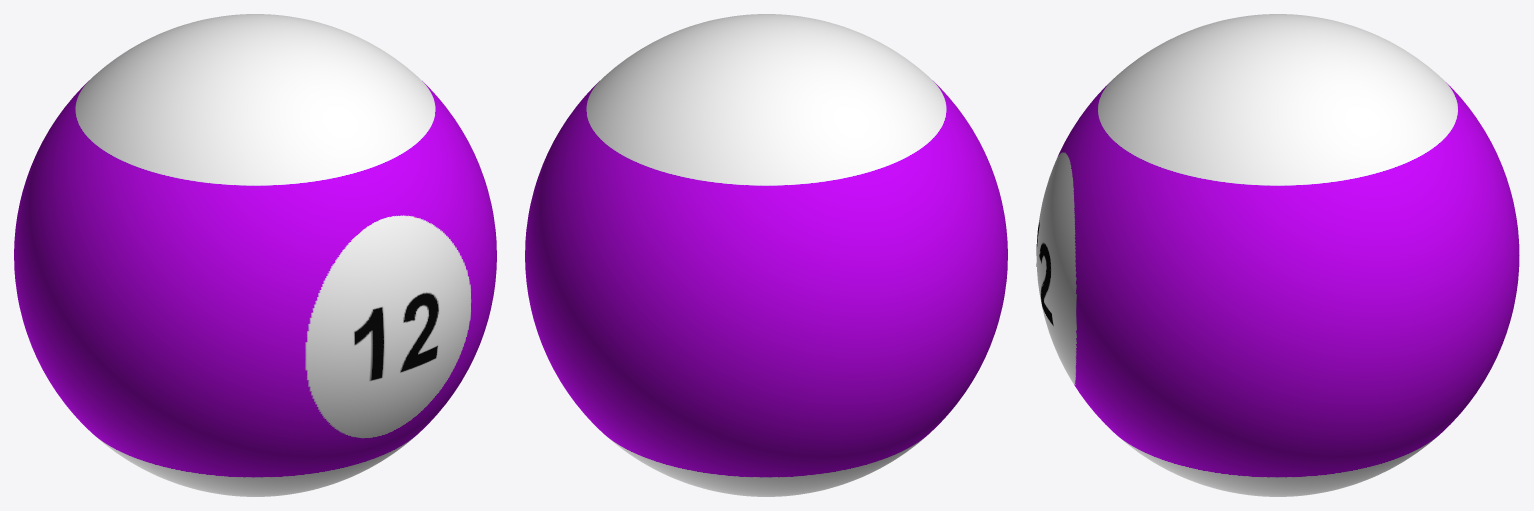
File: 12ball.obj
3 views of the same model, side by side, from view 1: azimuth 30°, elevation 25°; view 2: azimuth 150°, elevation 25°; view 3: azimuth 270°, elevation 25° (orthographic).
Visible parts, largest first — view 1: moon_Sphere; view 2: moon_Sphere; view 3: moon_Sphere.
Boxes of the visible parts, box(x1,y1,x2,y2) form: moon_Sphere: box(14, 14, 496, 496); moon_Sphere: box(525, 14, 1007, 496); moon_Sphere: box(1036, 14, 1519, 496).
Size of the model in its own units: 2 by 2 by 2.
Materials: 1 (1 with a texture image).
